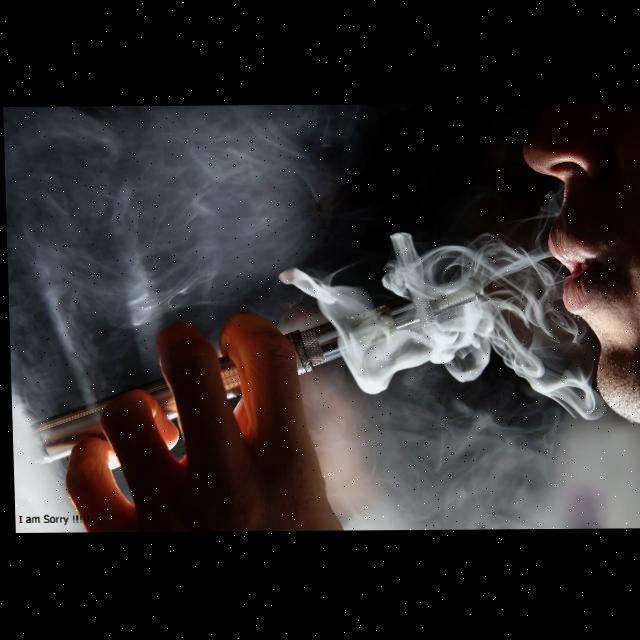vape: (22, 286, 481, 467)
